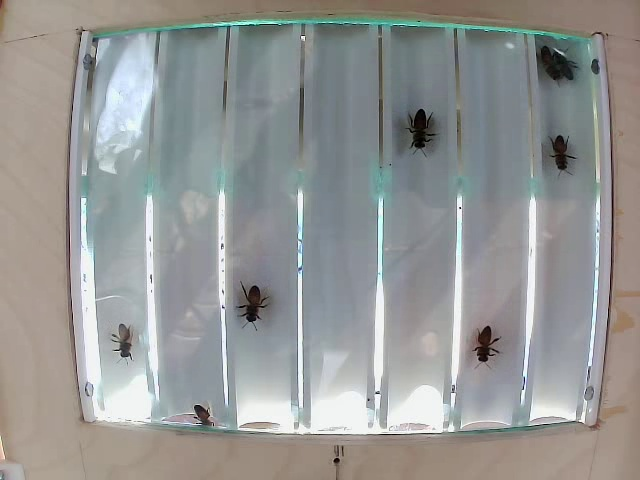bee: (402, 99, 452, 169), (465, 329, 500, 373), (542, 50, 576, 94), (106, 322, 139, 365), (239, 293, 272, 330), (186, 412, 227, 439), (548, 136, 575, 176)
